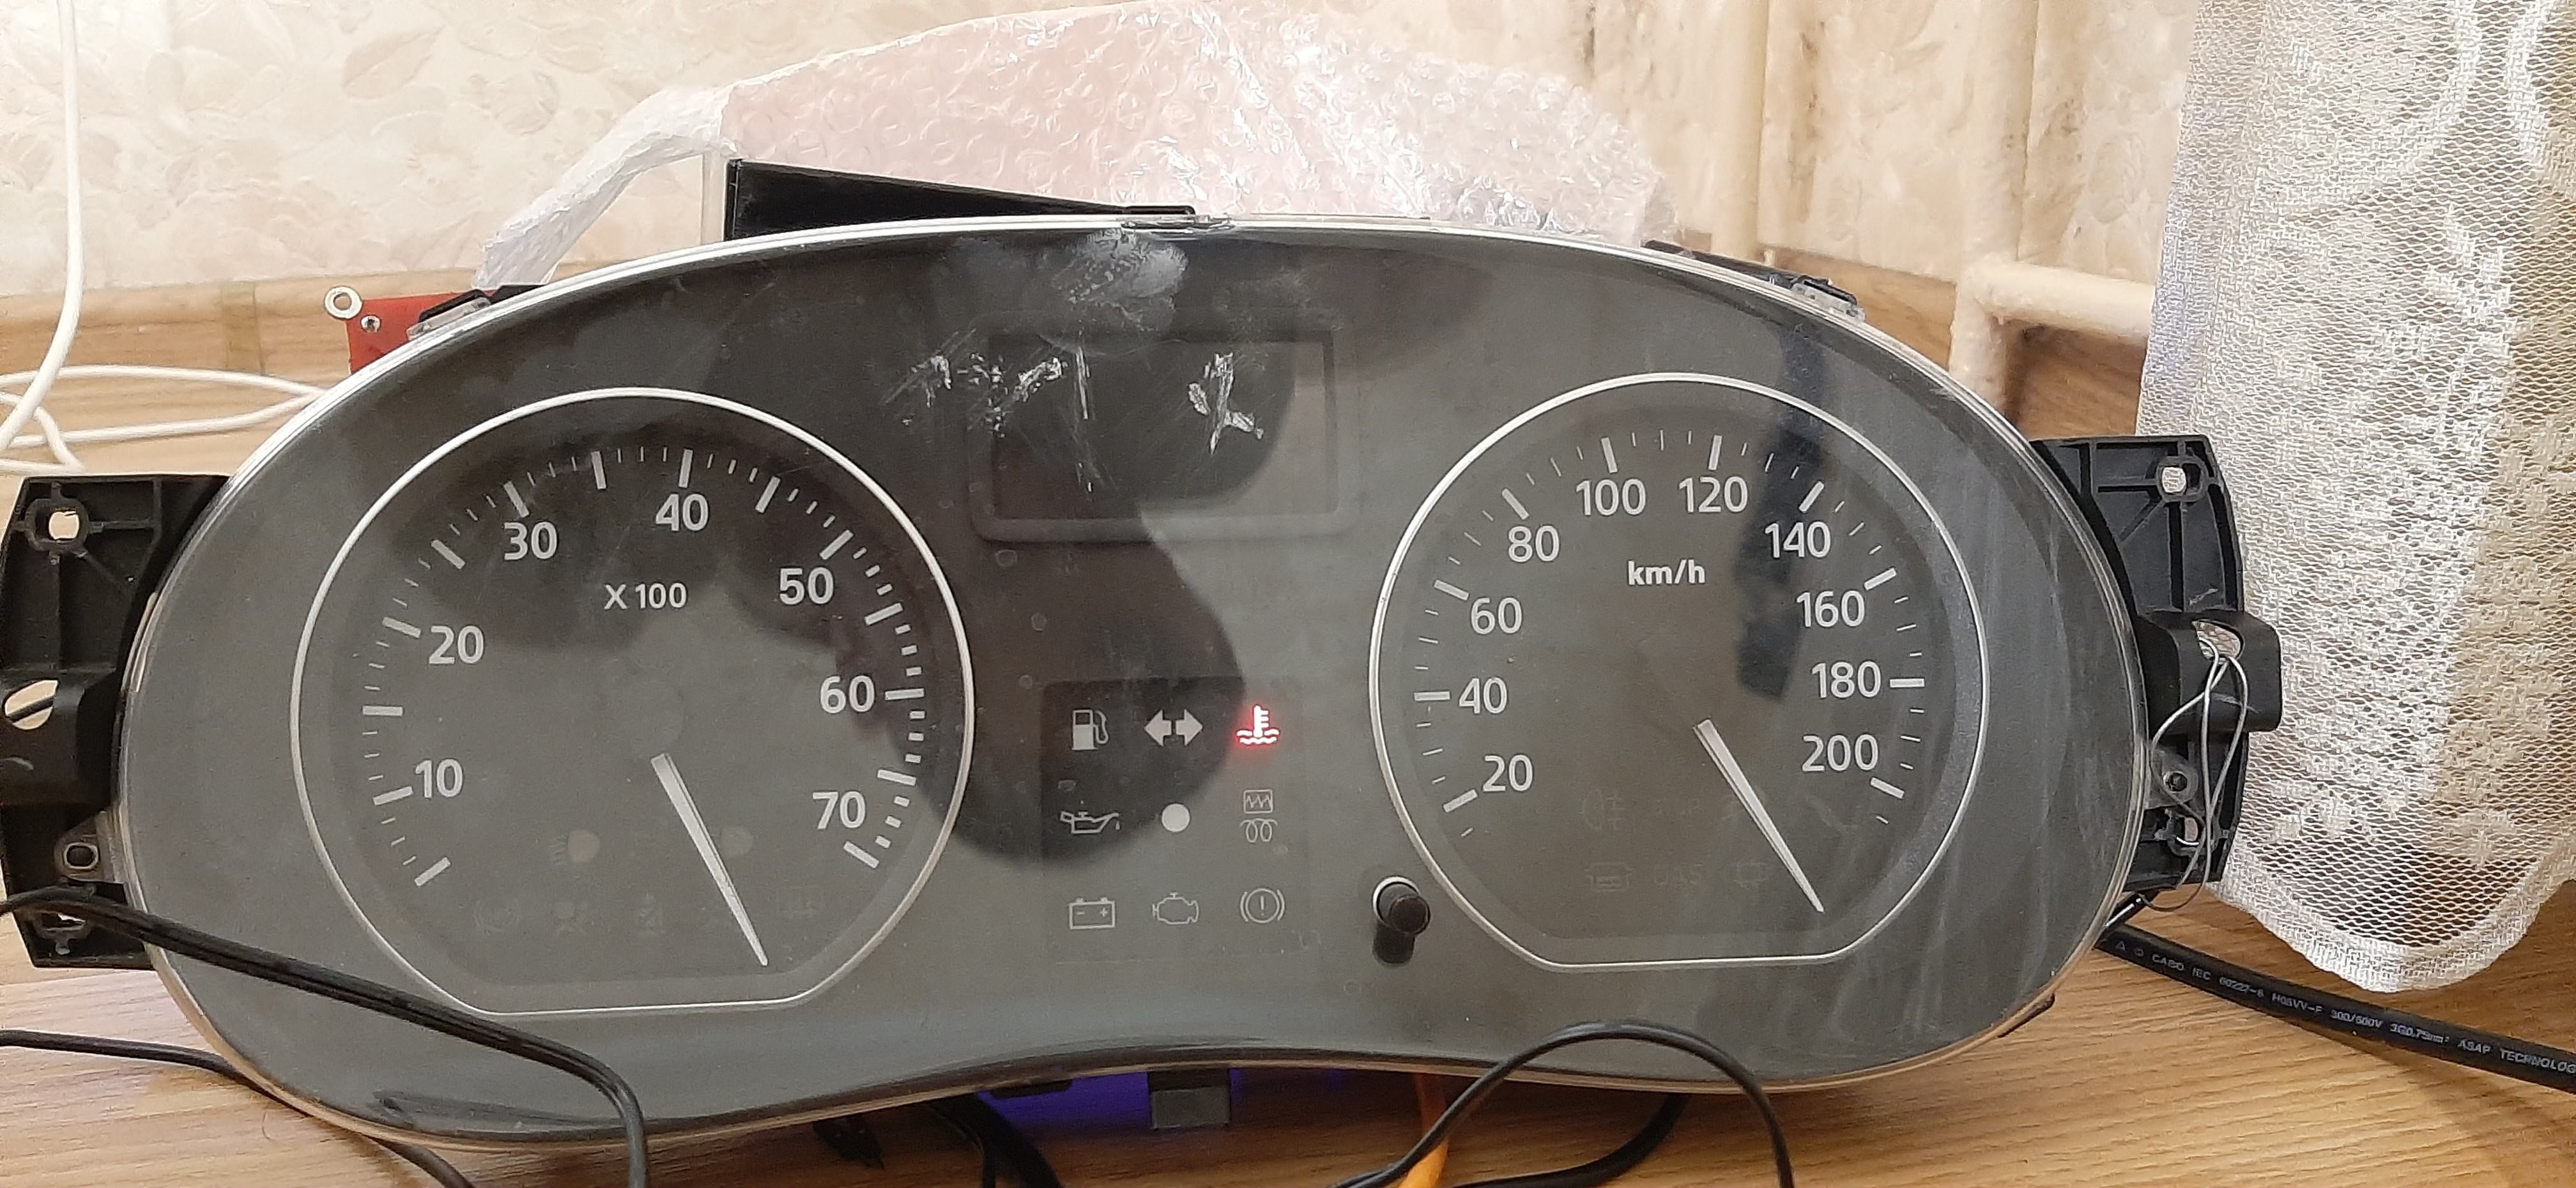Engine Overheating7: (1234, 703, 1285, 748)
